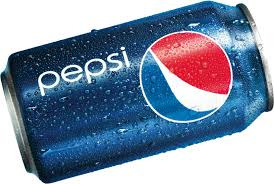pepsi: (4, 4, 274, 164)
